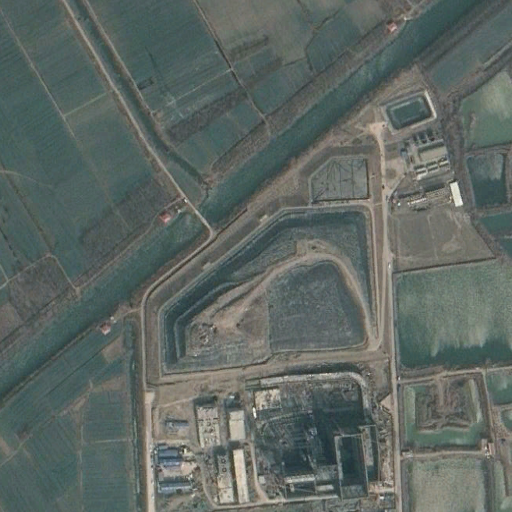lf: (159, 208, 387, 371)
